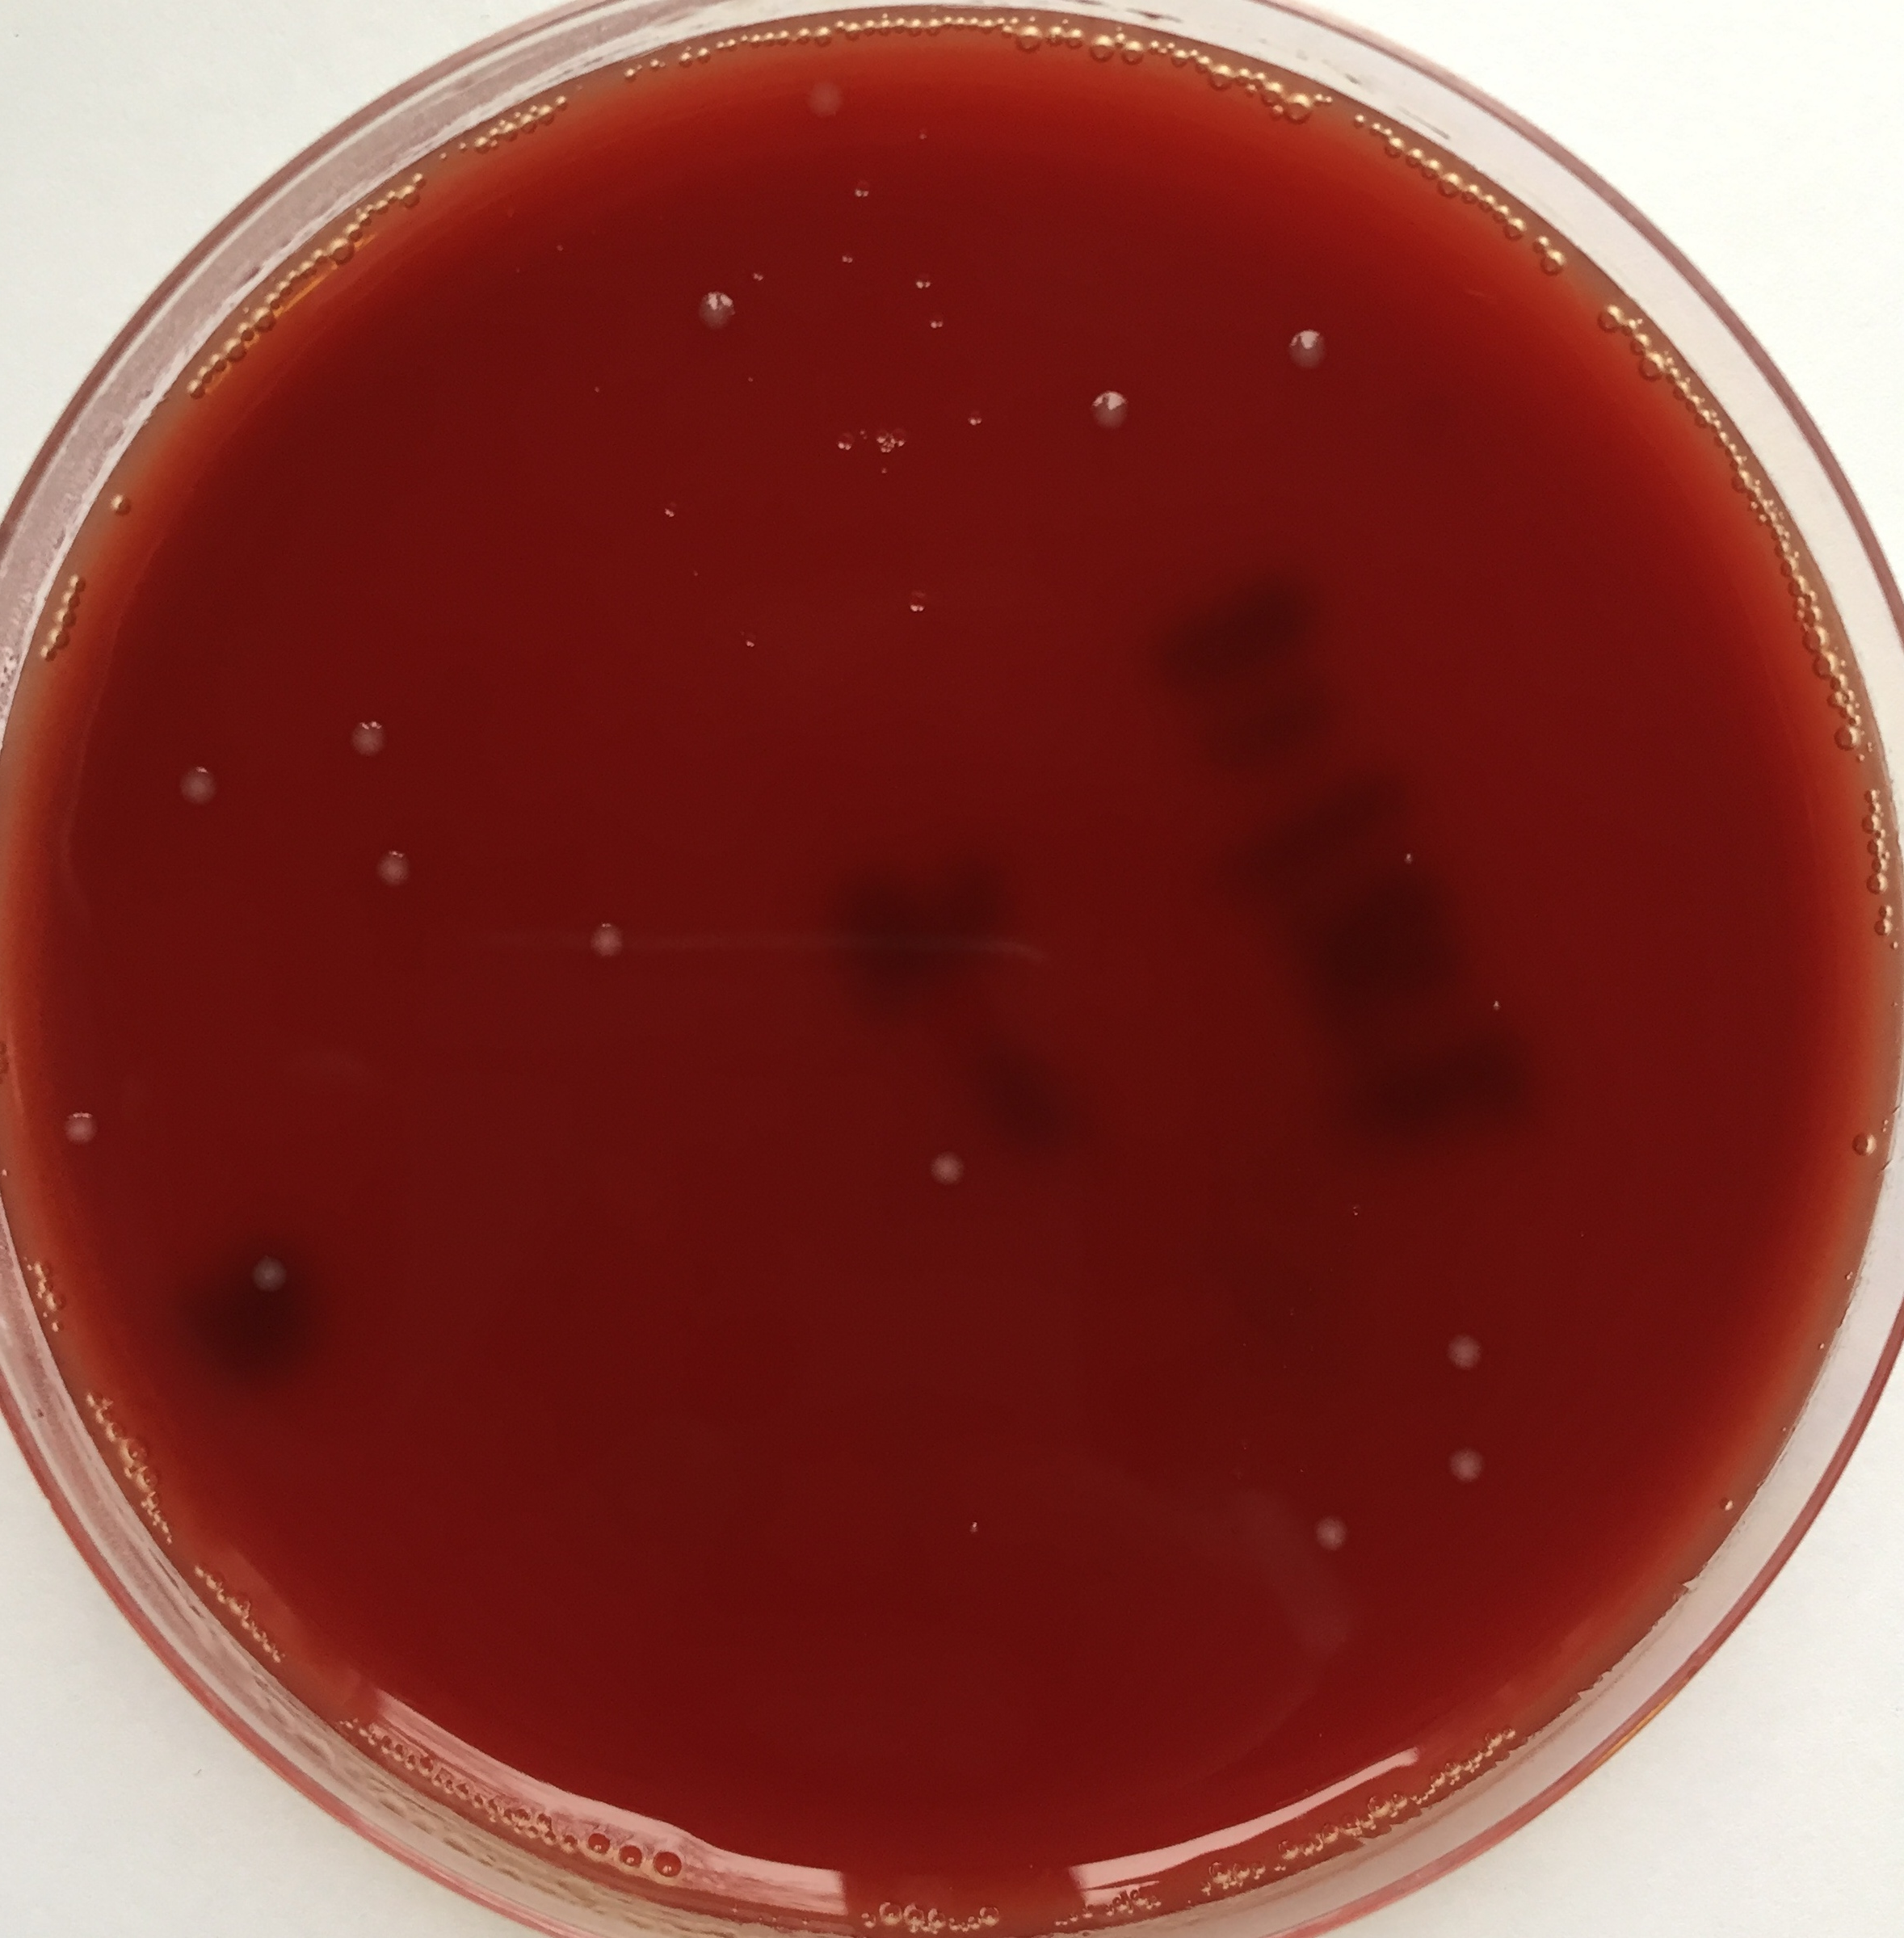sp14: (1289, 1505, 1365, 1568), (1083, 365, 1144, 441), (1431, 1439, 1503, 1502), (162, 752, 223, 815), (689, 279, 750, 342), (338, 701, 403, 759), (1430, 1326, 1493, 1382), (1283, 312, 1332, 382), (242, 1245, 296, 1308), (579, 912, 635, 970), (802, 72, 853, 134), (364, 848, 425, 895), (914, 1146, 971, 1193), (56, 1099, 103, 1155)
